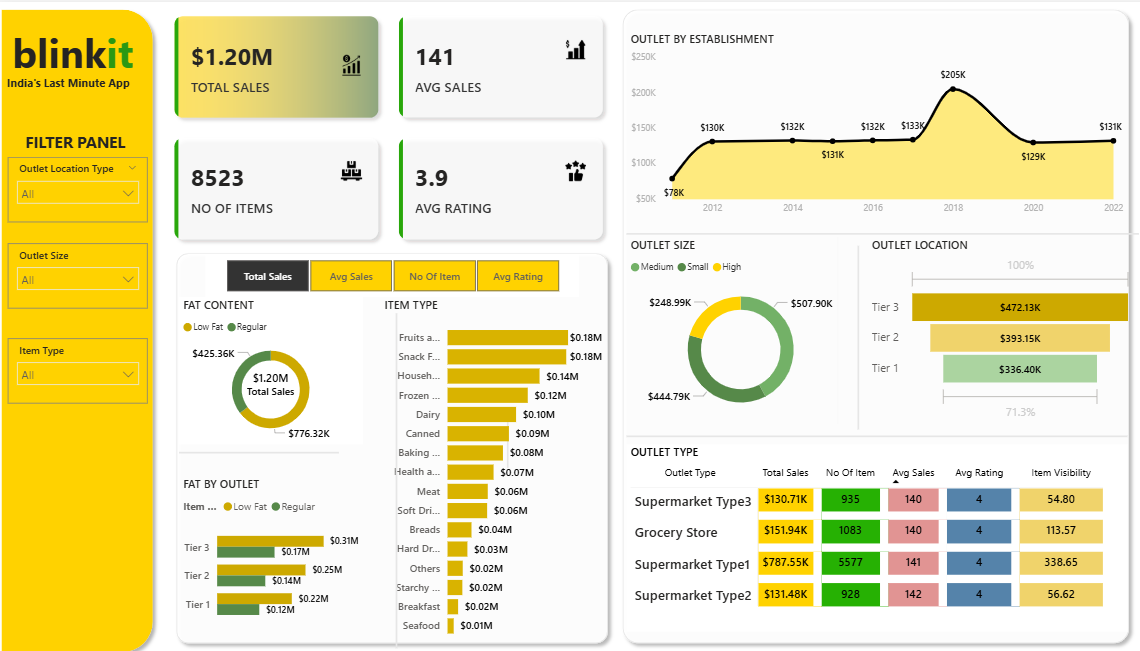

What the dashboard file says about the page in this screenshot:
{"tool":"powerbi","page":{"name":"Page 1","canvas":[1400,800],"ordinal":0},"visuals":[{"type":"shape","box":[0,0,199.6,789.5],"z":0},{"type":"textbox","box":[10.5,22.5,168.1,78],"z":1000},{"type":"textbox","box":[10.5,82.5,168.1,31.5],"z":2000},{"type":"cardVisual","fields":{"Data":["BlinkIT Grocery Data.Total Sales","BlinkIT Grocery Data.Avg Sales","BlinkIT Grocery Data.No Of Item","BlinkIT Grocery Data.Avg Rating"]},"box":[199.6,0,549.3,303.2],"z":3000},{"type":"shape","box":[210.1,292.7,535.8,486.3],"z":4000},{"type":"donutChart","title":" FAT CONTENT","fields":{"Y":["BlinkIT Grocery Data.Total Sales"],"Category":["BlinkIT Grocery Data.Item Fat Content"]},"box":[222.1,354.2,220.6,177.1],"z":5000},{"type":"slicer","fields":{"Values":["Metrics.Metrics"]},"box":[253.6,303.2,448.8,51],"z":6000},{"type":"cardVisual","fields":{"Data":["BlinkIT Grocery Data.Total Sales"]},"box":[268.7,415.7,127.6,85.5],"z":7000},{"type":"clusteredBarChart","title":"FAT BY  OUTLET","fields":{"Y":["BlinkIT Grocery Data.Total Sales"],"Category":["BlinkIT Grocery Data.Outlet Location Type"],"Series":["BlinkIT Grocery Data.Item Fat Content"]},"box":[222.1,568.8,220.6,187.6],"z":8000},{"type":"shape","box":[222.1,513.3,192.1,55.5],"z":9000},{"type":"shape","box":[520.8,504.3,192.1,55.5],"z":10000},{"type":"shape","box":[1002.6,282.2,21,225.1],"z":11000},{"type":"barChart","title":"ITEM TYPE","fields":{"Y":["BlinkIT Grocery Data.Total Sales"],"Category":["BlinkIT Grocery Data.Item Type"]},"box":[463.8,354.2,271.7,418.7],"z":12000},{"type":"shape","box":[745.9,0,625.9,778.9],"z":13000},{"type":"lineChart","title":" OUTLET BY  ESTABLISHMENT ","fields":{"Category":["BlinkIT Grocery Data.Outlet Establishment Year"],"Y":["BlinkIT Grocery Data.Total Sales"]},"box":[759.4,34.5,601.8,229.6],"z":14000},{"type":"shape","box":[759.4,264.2,615.4,28.5],"z":15000},{"type":"donutChart","title":"OUTLET SIZE","fields":{"Y":["BlinkIT Grocery Data.Total Sales"],"Category":["BlinkIT Grocery Data.Outlet Size"]},"box":[759.4,282.2,274.7,225.1],"z":16000},{"type":"shape","box":[1013.1,292.7,49.5,220.6],"z":17000},{"type":"shape","box":[473.3,374.2,21,402.2],"z":18000},{"type":"funnel","title":"OUTLET LOCATION","fields":{"Y":["BlinkIT Grocery Data.Total Sales"],"Category":["BlinkIT Grocery Data.Outlet Location Type"]},"box":[1049.1,282.2,322.7,225.1],"z":19000},{"type":"shape","box":[759.4,501.3,601.8,40.5],"z":20000},{"type":"pivotTable","title":"OUTLET TYPE","fields":{"Rows":["BlinkIT Grocery Data.Outlet Type"],"Values":["BlinkIT Grocery Data.Total Sales","BlinkIT Grocery Data.No Of Item","BlinkIT Grocery Data.Avg Sales","BlinkIT Grocery Data.Avg Rating","Sum(BlinkIT Grocery Data.Item Visibility)"]},"box":[759.4,531.3,601.8,225.1],"z":21000},{"type":"slicer","fields":{"Values":["BlinkIT Grocery Data.Outlet Location Type"]},"box":[16.5,186.1,168.1,78],"z":22000},{"type":"slicer","fields":{"Values":["BlinkIT Grocery Data.Outlet Size"]},"box":[16.5,289.7,168.1,78],"z":23000},{"type":"slicer","fields":{"Values":["BlinkIT Grocery Data.Item Type"]},"box":[16.5,403.7,168.1,78],"z":24000},{"type":"textbox","box":[16.5,150.1,162.1,36],"z":25000}]}

Visuals, with their boxes in screenshot pixels (x1, y1, x2, y2), scaled from the page's 1400x800 canvas onto the 1140x651 screenshot:
shape: locate(0, 0, 163, 642)
textbox: locate(9, 18, 145, 82)
textbox: locate(9, 67, 145, 93)
cardVisual - BlinkIT Grocery Data.Total Sales x BlinkIT Grocery Data.Avg Sales: locate(163, 0, 610, 247)
shape: locate(171, 238, 607, 634)
" FAT CONTENT" donutChart: locate(181, 288, 360, 432)
slicer - Metrics.Metrics: locate(207, 247, 572, 288)
cardVisual - BlinkIT Grocery Data.Total Sales: locate(219, 338, 323, 408)
"FAT BY  OUTLET" clusteredBarChart: locate(181, 463, 360, 616)
shape: locate(181, 418, 337, 463)
shape: locate(424, 410, 581, 456)
shape: locate(816, 230, 834, 413)
"ITEM TYPE" barChart: locate(378, 288, 599, 629)
shape: locate(607, 0, 1117, 634)
" OUTLET BY  ESTABLISHMENT " lineChart: locate(618, 28, 1108, 215)
shape: locate(618, 215, 1119, 238)
"OUTLET SIZE" donutChart: locate(618, 230, 842, 413)
shape: locate(825, 238, 865, 418)
shape: locate(385, 305, 403, 632)
"OUTLET LOCATION" funnel: locate(854, 230, 1117, 413)
shape: locate(618, 408, 1108, 441)
"OUTLET TYPE" pivotTable: locate(618, 432, 1108, 616)
slicer - BlinkIT Grocery Data.Outlet Location Type: locate(13, 151, 150, 215)
slicer - BlinkIT Grocery Data.Outlet Size: locate(13, 236, 150, 299)
slicer - BlinkIT Grocery Data.Item Type: locate(13, 329, 150, 392)
textbox: locate(13, 122, 145, 151)
